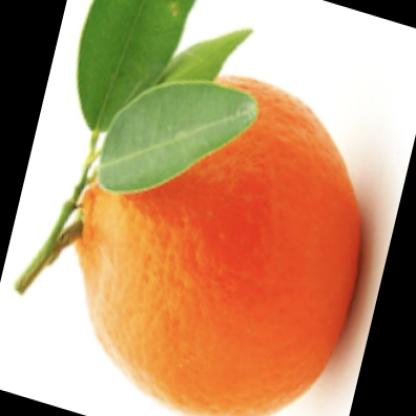fresh: (54, 35, 363, 416)
